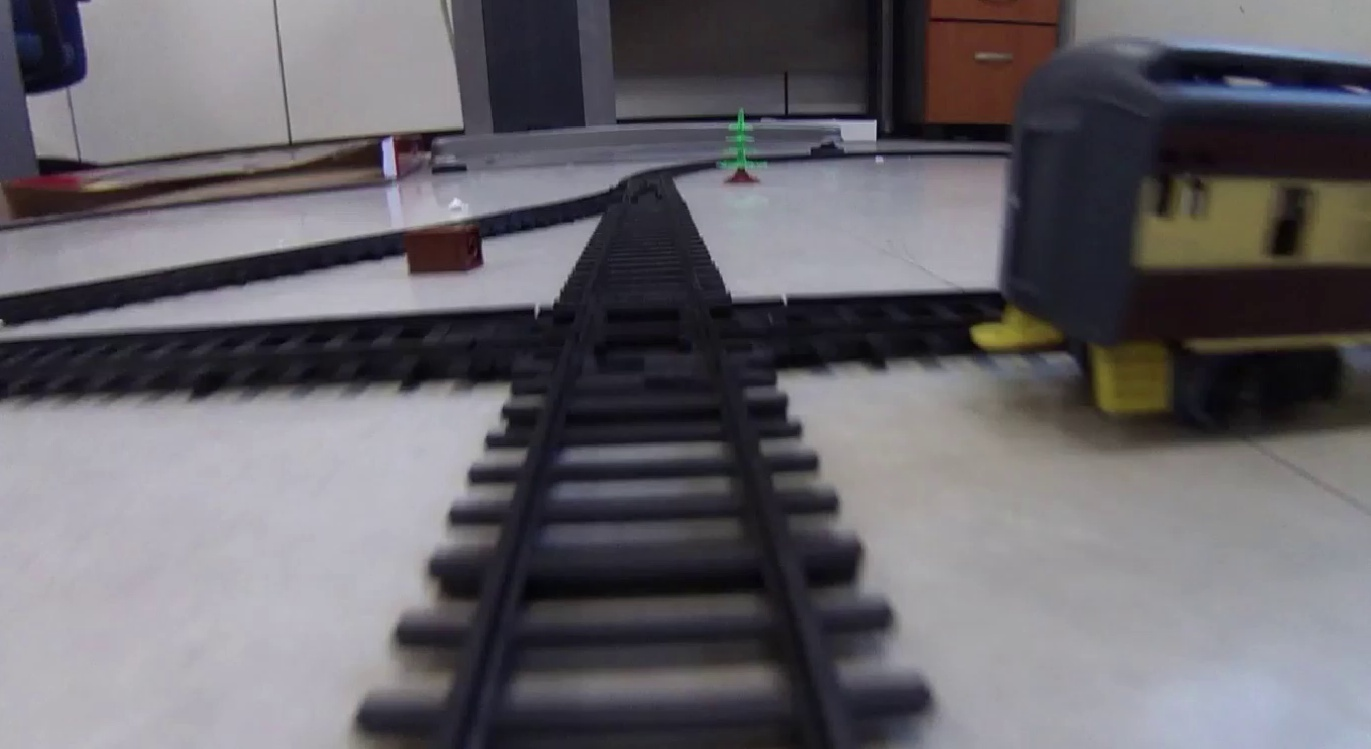box: (408, 227, 484, 272)
tree: (716, 109, 766, 186)
